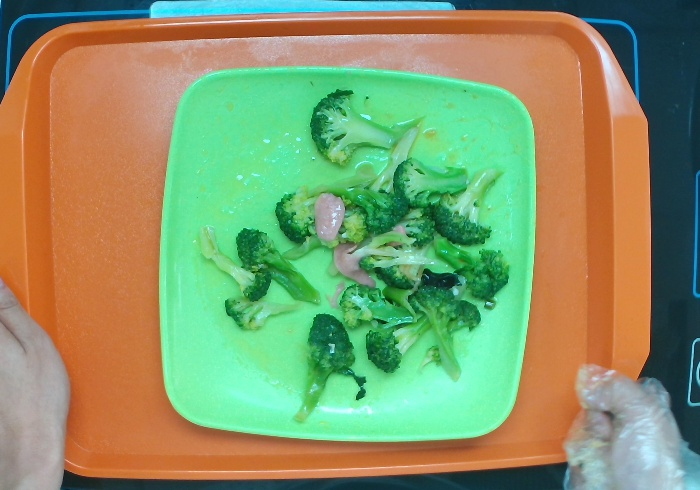ZNLD-Lv_Fang_Pan: (147, 64, 536, 454)
